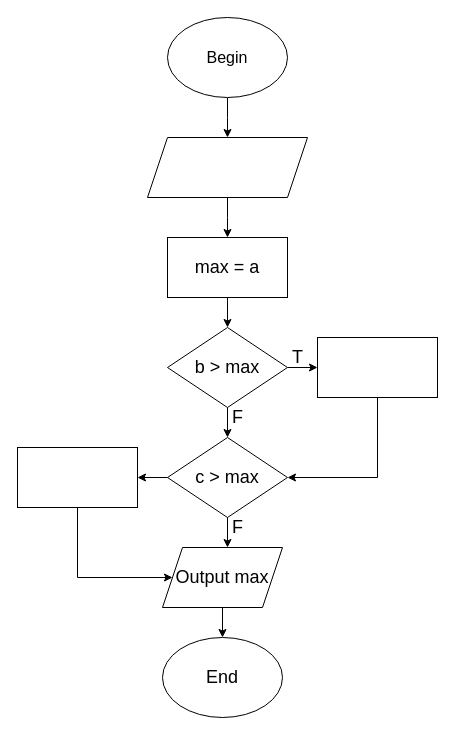
This 455x735 diagram has some shape labels left out. The centre of each missing label's shape, as x and y in pixels:
Input a, b, c: the point at 227,167
max = b: the point at 377,367
max = c: the point at 77,477
